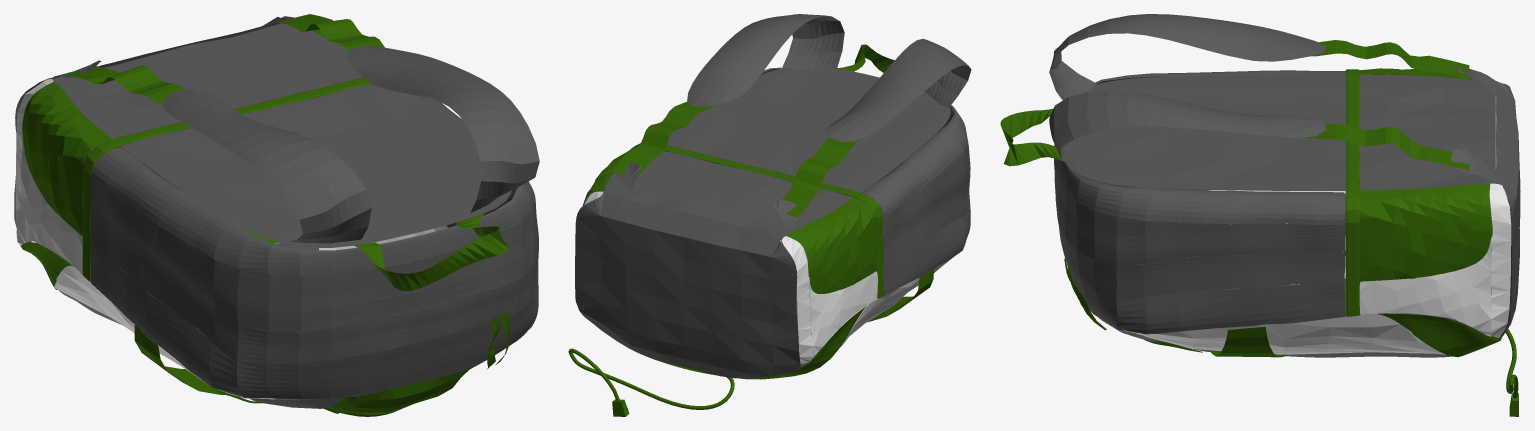
3 views of the same model, side by side, from view 1: azimuth 30°, elevation 25°; view 2: azimuth 150°, elevation 25°; view 3: azimuth 270°, elevation 25° (orthographic). The views are drawn at different scales.
Visible parts, largest first — view 1: backpack; view 2: backpack; view 3: backpack.
Boxes of the visible parts, x1,y1,x2,y2 form: backpack: (14,14,539,416); backpack: (568,14,971,416); backpack: (1000,14,1520,416).
Bounding box in the file's own units: 11.78 × 12.09 × 18.02.
